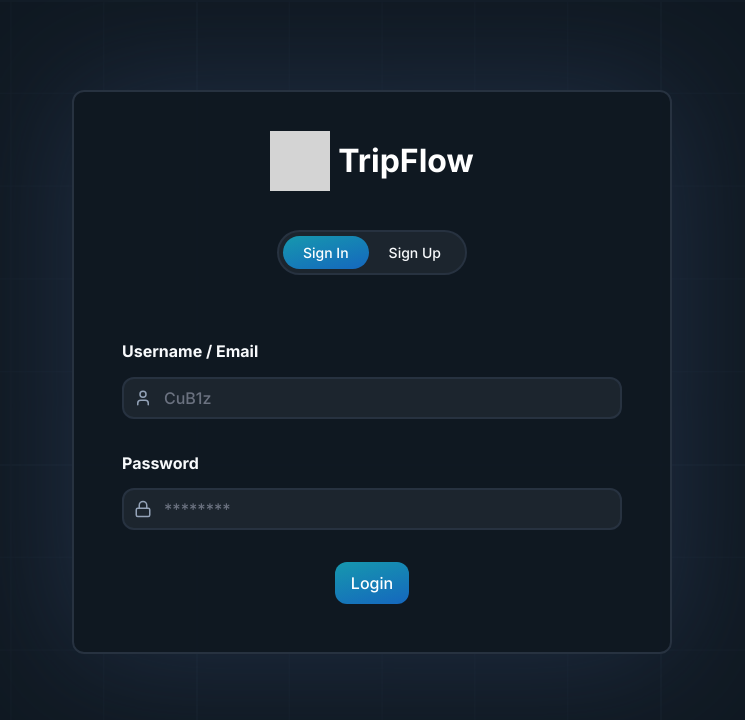
Login Page Validation › shows validation error for empty password
The image size is (745, 720).
Type "testuser" into the field labelled "Username / Email".
click(372, 398); type("testuser")  # box [122,376,622,418]
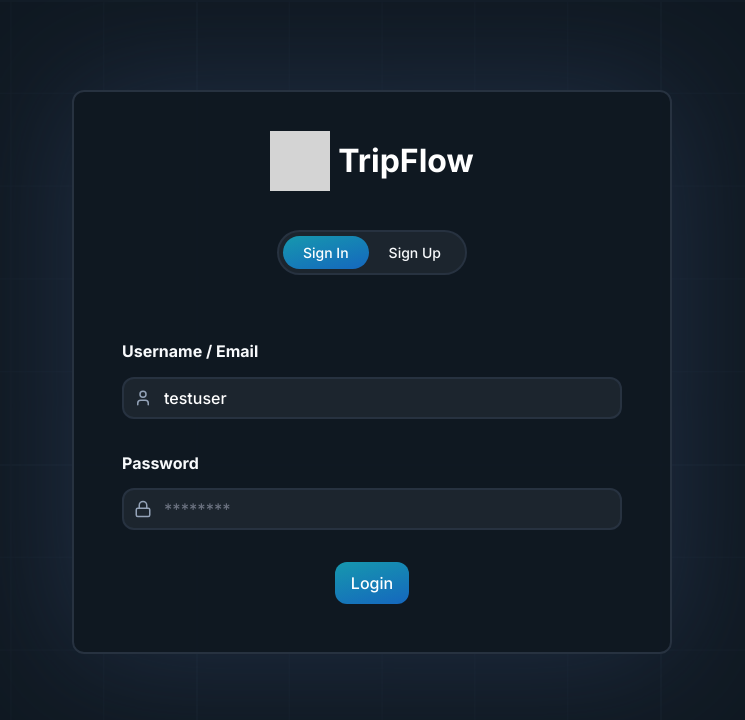
Click the button "Login".
click(372, 583)  # box [335,562,409,604]
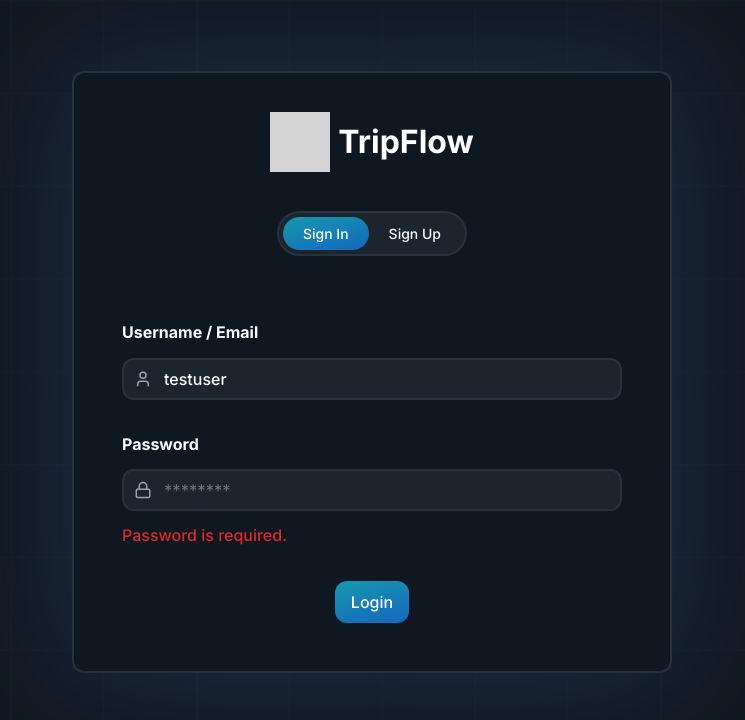
Check: the text "Password is required." is shown, box [122,525,287,545]
